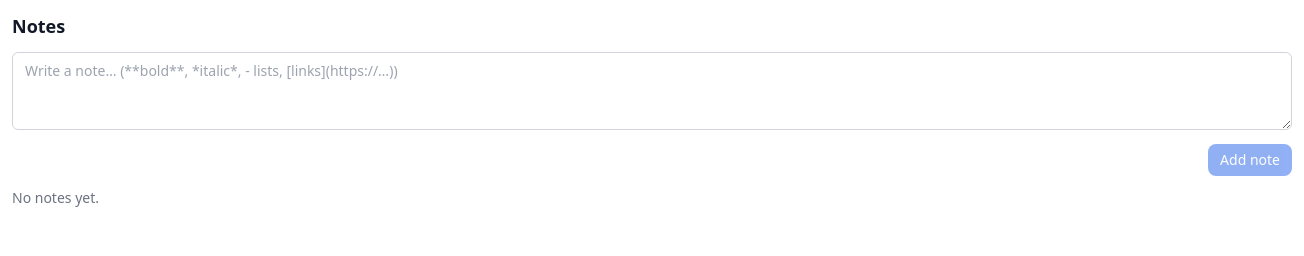
Test: RecordNotes › shows an error and keeps the draft when saving fails
Replace the text in the text box named "New note" with "keep me" at (652, 91), box [12,52,1292,130]
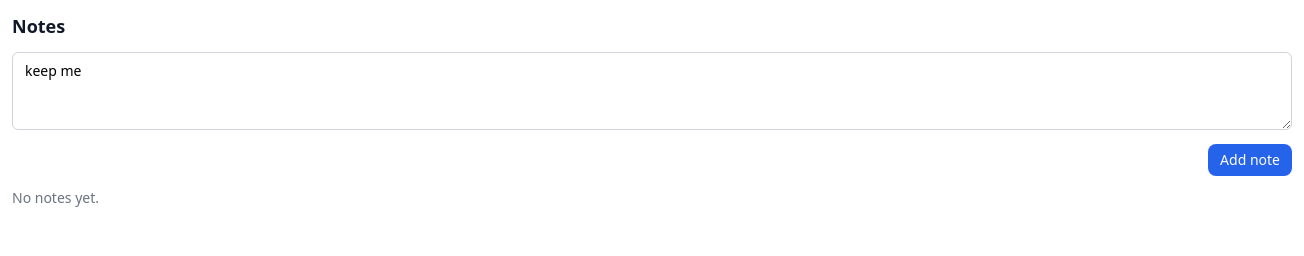
Click the button "Add note".
click(1250, 160)  # box [1208,144,1292,176]
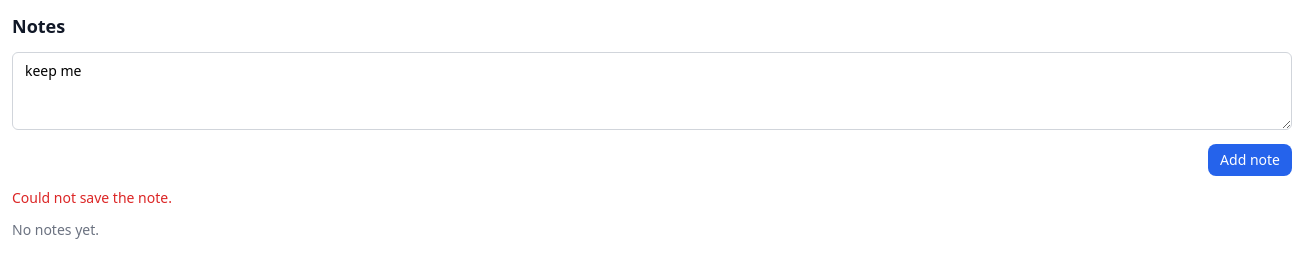
Now the message reads "Could not save the note.", box [12,188,172,207]
